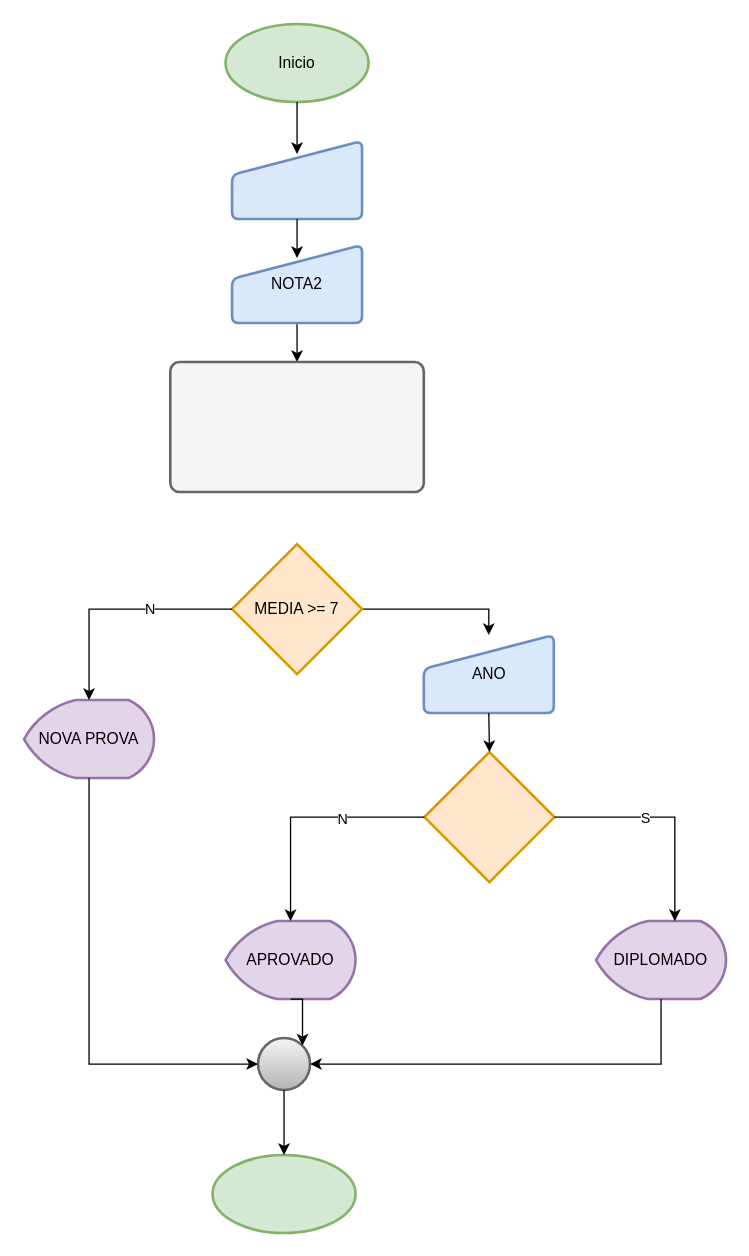
Some shapes in this 749 by 1256 pixel diagram are drawn without their labels. Here are the shapes that lost their labels. From the top down, the centre of each, then its label:
the point at 296,179: NOTA1
the point at 296,426: MEDIA = (NOTA1 + NOTA2) / 2
the point at 488,816: ANO = 3
the point at 283,1193: Fim
